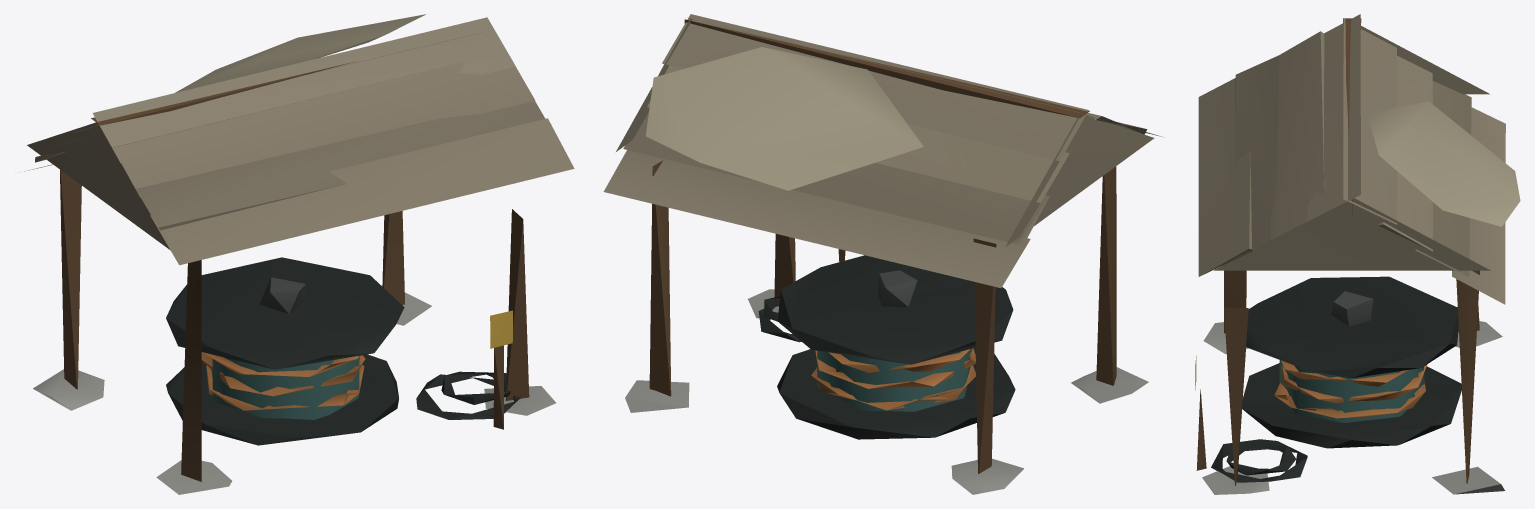
File: spool_shed_b_lod2.glb
3 renders of one model, left to right at view 1: azimuth 30°, elevation 25°; view 2: azimuth 150°, elevation 25°; view 3: azimuth 270°, elevation 25°, orthographic. The views are drawn at different scales.
Visible parts, largest first — view 1: Surface.001; view 2: Surface.001; view 3: Surface.001.
Boxes of the visible parts, x1,y1,x2,y2 form: Surface.001: (24,14,574,494); Surface.001: (603,14,1163,494); Surface.001: (1195,14,1520,494).
Size of the model in its own units: 3.7 by 2.95 by 2.81.
